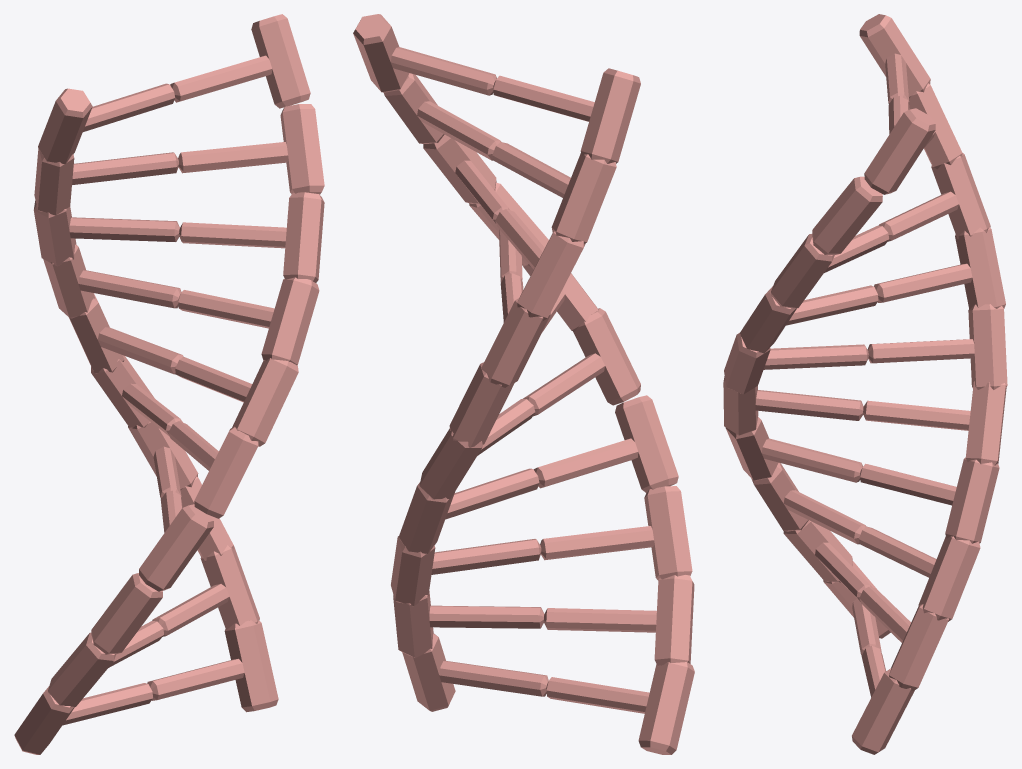
File: medicine.glb
The picture shows the model from 3 angles, left to right: view 1: azimuth 30°, elevation 25°; view 2: azimuth 150°, elevation 25°; view 3: azimuth 270°, elevation 25°; orthographic projection. The views are drawn at different scales.
Parts seen in each view (by area): view 1: group98267956, group1918272623, group1890997749, group816999805, group1941224218, group1916454902, group1692922274, group64402491, group905627815, group543773821, group80703863, group1355464784 (+8 smaller); view 2: group583171219, group1184130097, group1692922274, group500574630, group1100175594, group64402491, group1355464784, group1890997749, group1941224218, group679215435, group543773821, group905627815 (+8 smaller); view 3: group98256001, group1347056512, group1440525040, group80703863, group679215435, group905627815, group543773821, group1916454902, group500574630, group1355464784, group1890997749, group816999805 (+8 smaller).
Boxes of the visible parts, box(x1,y1,x2,y2) form: group98267956: box(178, 104, 324, 194); group1918272623: box(179, 192, 324, 282); group1890997749: box(170, 14, 310, 108); group816999805: box(178, 277, 319, 365); group1941224218: box(147, 620, 278, 712); group1916454902: box(175, 357, 298, 446); group1692922274: box(38, 83, 175, 164); group64402491: box(34, 148, 178, 215); group905627815: box(33, 200, 179, 266); group543773821: box(152, 545, 259, 636); group80703863: box(43, 244, 181, 318); group1355464784: box(168, 421, 258, 518); group583171219: box(546, 662, 694, 754); group1184130097: box(540, 486, 692, 580); group1692922274: box(493, 68, 640, 163); group500574630: box(533, 395, 678, 492); group1100175594: box(543, 575, 694, 666); group64402491: box(492, 142, 616, 243); group1355464784: box(523, 308, 640, 416); group1890997749: box(353, 14, 496, 95); group1941224218: box(402, 633, 548, 711); group679215435: box(391, 536, 541, 606); group543773821: box(393, 591, 544, 657); group905627815: box(495, 209, 585, 320); group98256001: box(867, 304, 1007, 389); group1347056512: box(860, 457, 999, 543); group1440525040: box(863, 381, 1006, 465); group80703863: box(874, 227, 1005, 309); group679215435: box(859, 526, 980, 621); group905627815: box(878, 153, 990, 241); group543773821: box(859, 586, 948, 690); group1916454902: box(724, 332, 868, 394); group500574630: box(725, 417, 863, 482); group1355464784: box(723, 376, 863, 435); group1890997749: box(864, 96, 935, 194); group816999805: box(740, 285, 878, 353).
Bounding box in the file's own units: 0.4481 × 1 × 0.3905.
